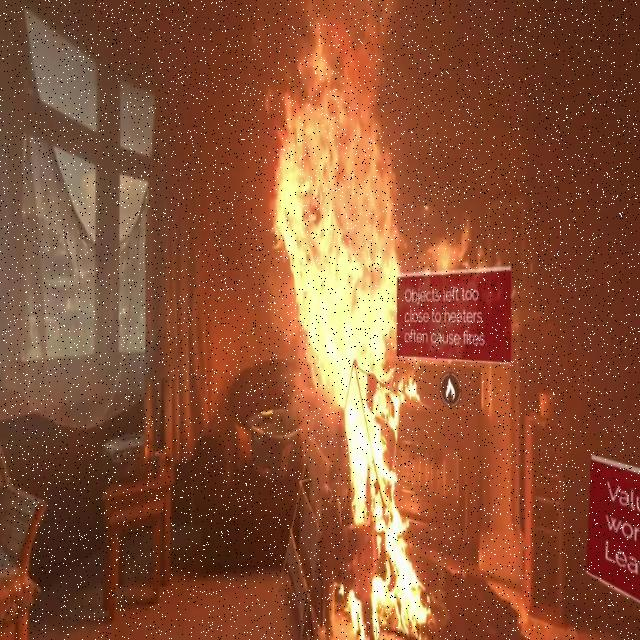fire: (260, 5, 459, 640)
